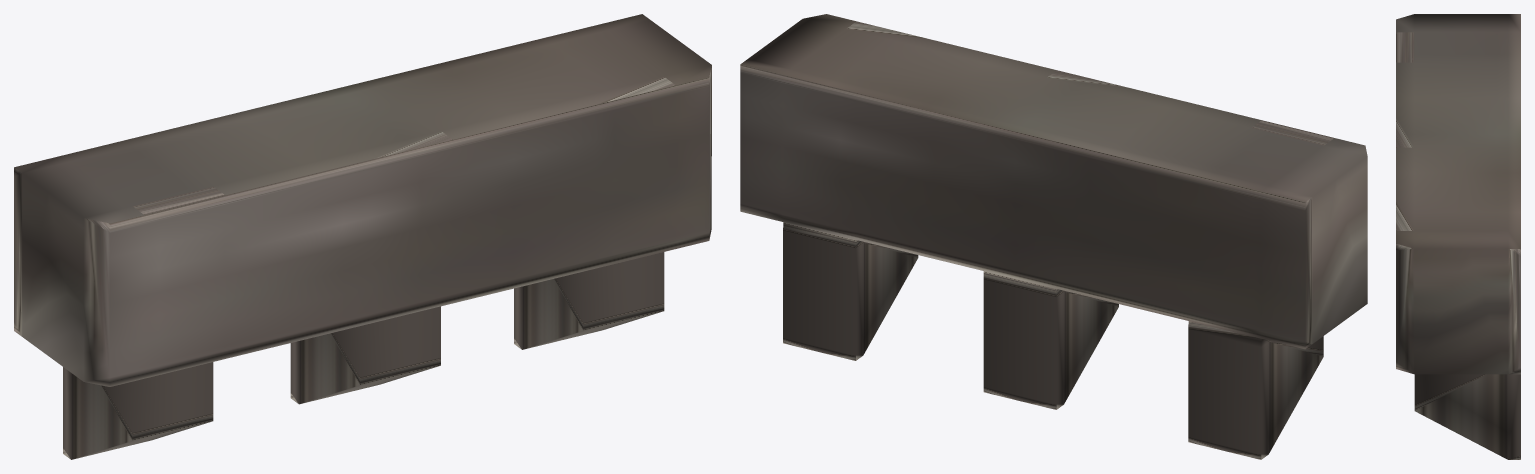
File: rampart3.glb
3 renders of one model, left to right at view 1: azimuth 30°, elevation 25°; view 2: azimuth 150°, elevation 25°; view 3: azimuth 270°, elevation 25°, orthographic. The views are drawn at different scales.
Parts seen in each view (by area): view 1: rampart3; view 2: rampart3; view 3: rampart3.
Boxes of the visible parts, x1,y1,x2,y2 form: rampart3: [14, 14, 711, 459]; rampart3: [740, 14, 1367, 459]; rampart3: [1396, 14, 1520, 459].
Size of the model in its own units: 4 by 1.82 by 0.8986.
1 material, 1 textured.
